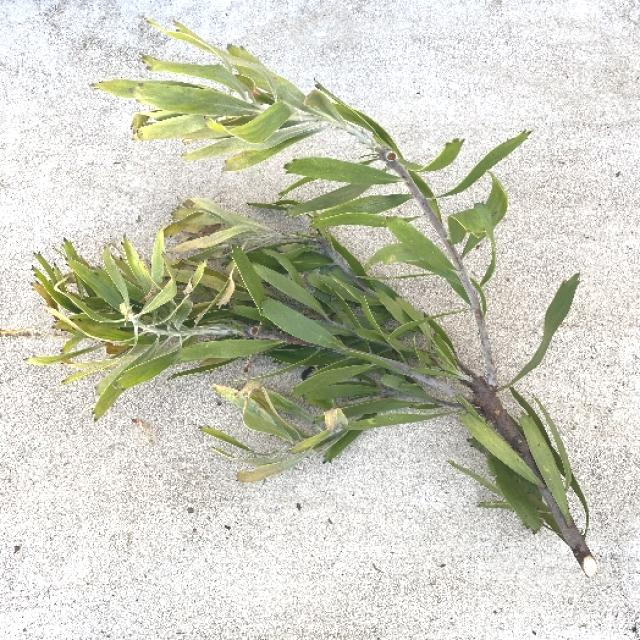organic: (92, 59, 580, 486)
